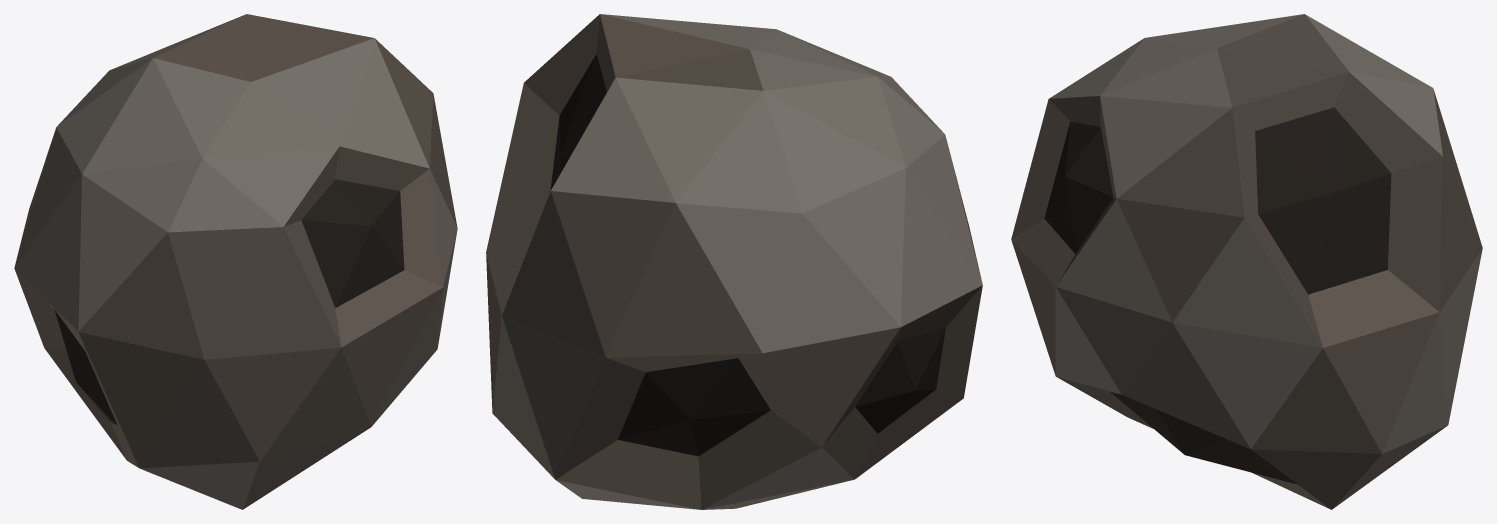
The model's file is Asteroid.fbx.
The picture shows the model from 3 angles, left to right: view 1: azimuth 30°, elevation 25°; view 2: azimuth 150°, elevation 25°; view 3: azimuth 270°, elevation 25°; orthographic projection. The views are drawn at different scales.
Parts seen in each view (by area): view 1: Asteroid; view 2: Asteroid; view 3: Asteroid.
Part boxes in pixels (x1,y1,x2,y2): Asteroid: (14,14,457,509); Asteroid: (486,14,982,509); Asteroid: (1011,14,1482,509).
Size of the model in its own units: 1.99 by 2.04 by 2.02.
